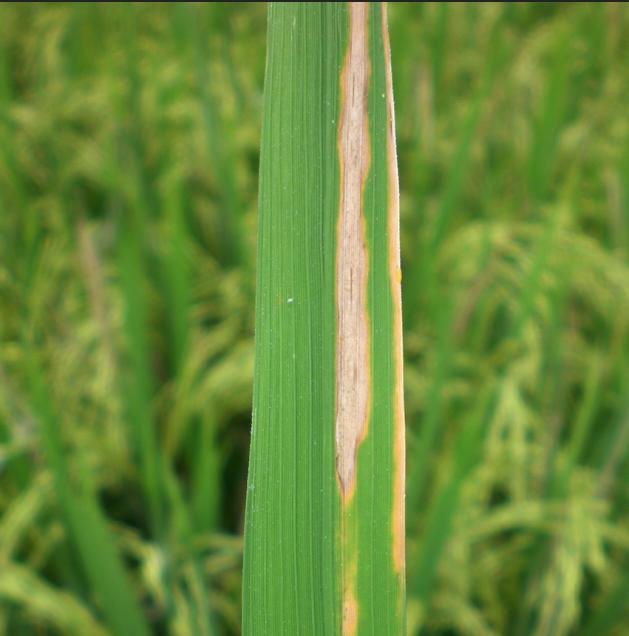BLB: (334, 2, 372, 502), (381, 2, 406, 587)
LEAF: (243, 2, 406, 635)
